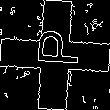P_W: (29, 35, 81, 75)
